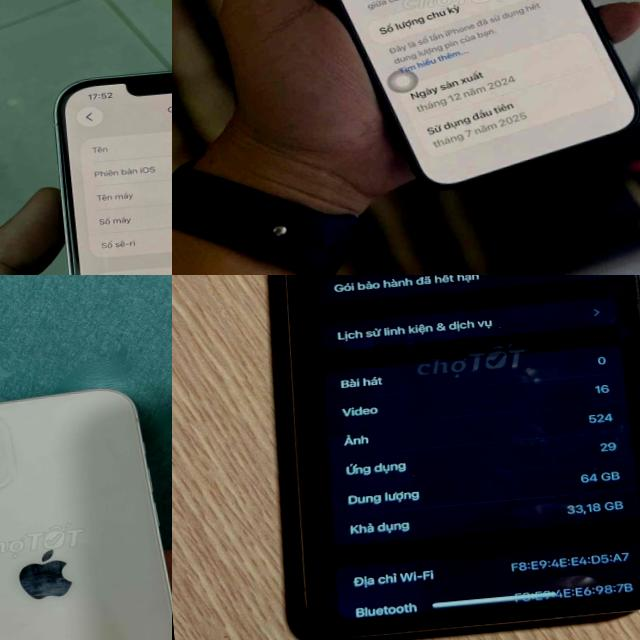gen_12_13: (0, 381, 172, 640), (41, 52, 172, 275)
gen_16: (338, 0, 636, 185)
gen_x_xs: (252, 275, 640, 640)
